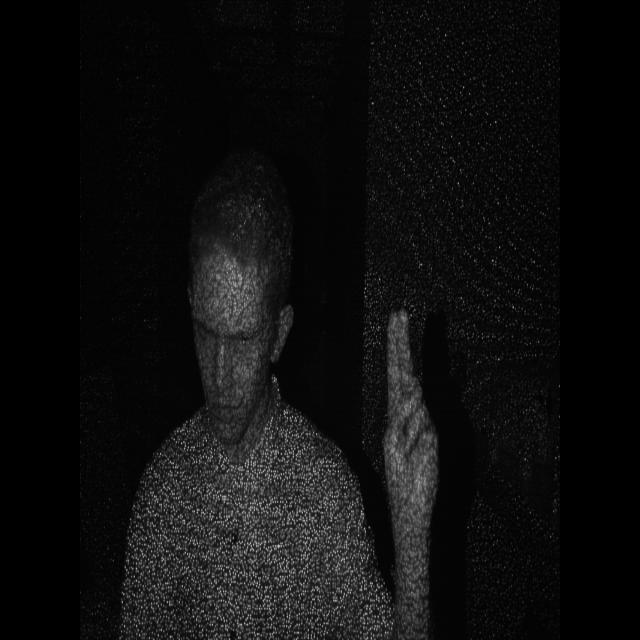U: (374, 302, 444, 510)
